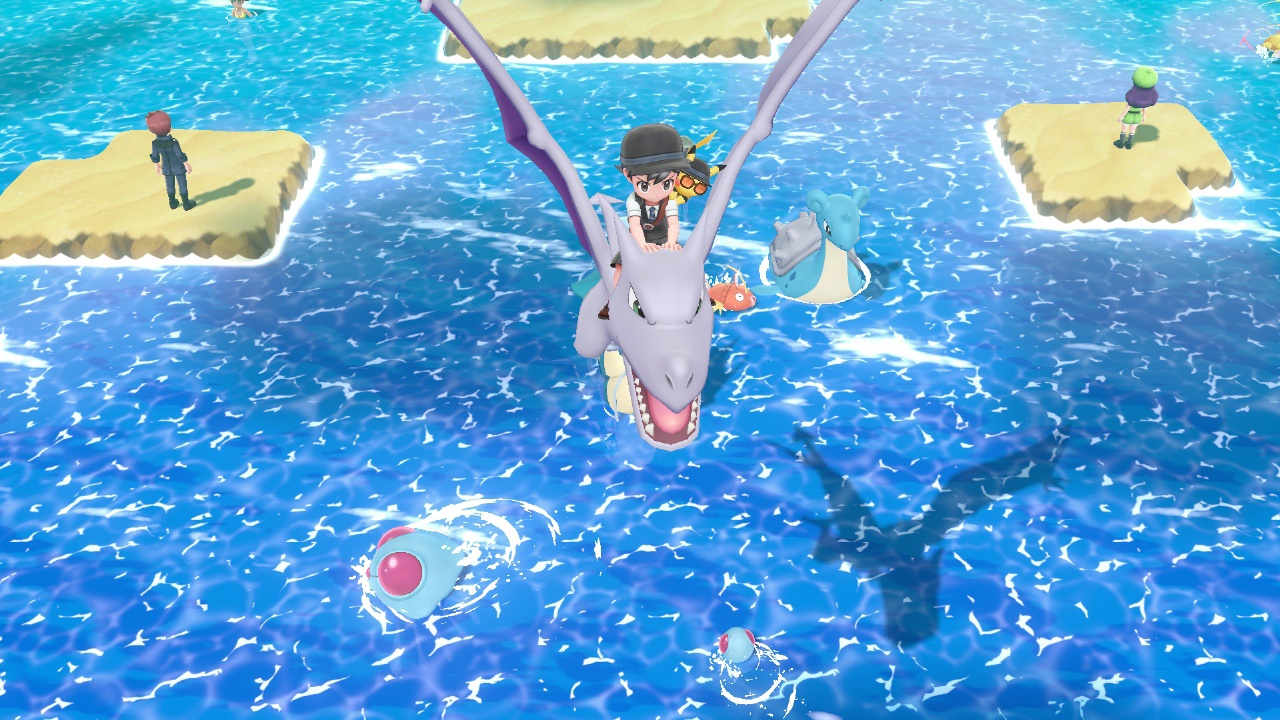Golden: (1257, 31, 1280, 65)
Red: (707, 277, 761, 311)
